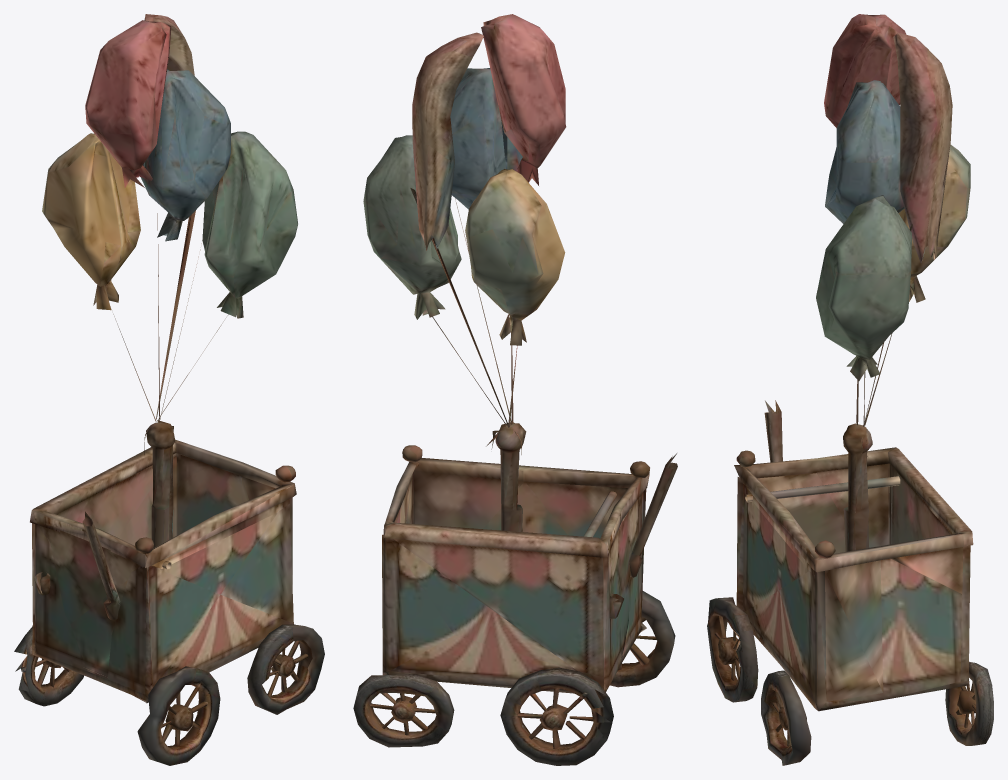
The model's file is prop_fair_balloon_cart.glb.
The picture shows the model from 3 angles, left to right: view 1: azimuth 30°, elevation 25°; view 2: azimuth 150°, elevation 25°; view 3: azimuth 270°, elevation 25°; orthographic projection. The views are drawn at different scales.
Size of the model in its own units: 0.1631 by 0.4194 by 0.1558.
1 material, 1 textured.
